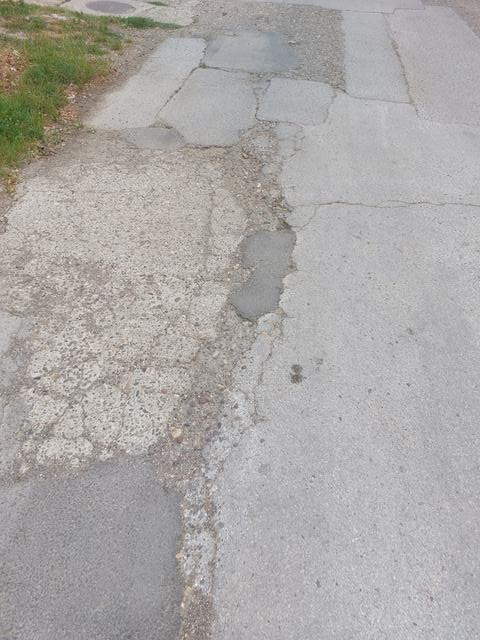pothole: (202, 124, 326, 271)
